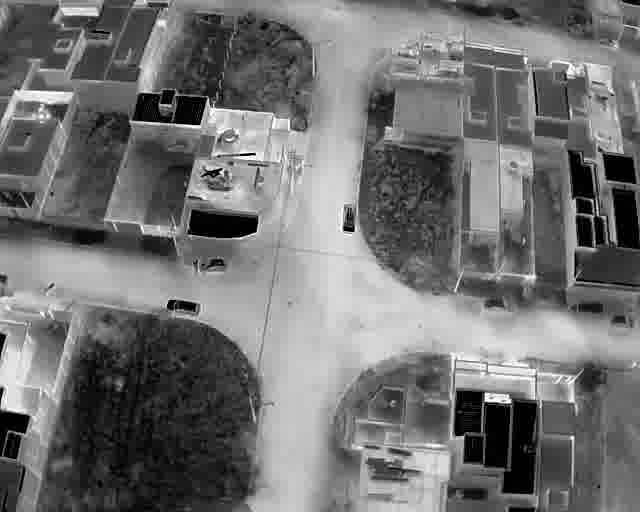car: (167, 297, 200, 315), (195, 256, 228, 273), (480, 298, 517, 313), (342, 203, 357, 234), (608, 313, 635, 328)
motorcycle: (42, 281, 55, 293)
